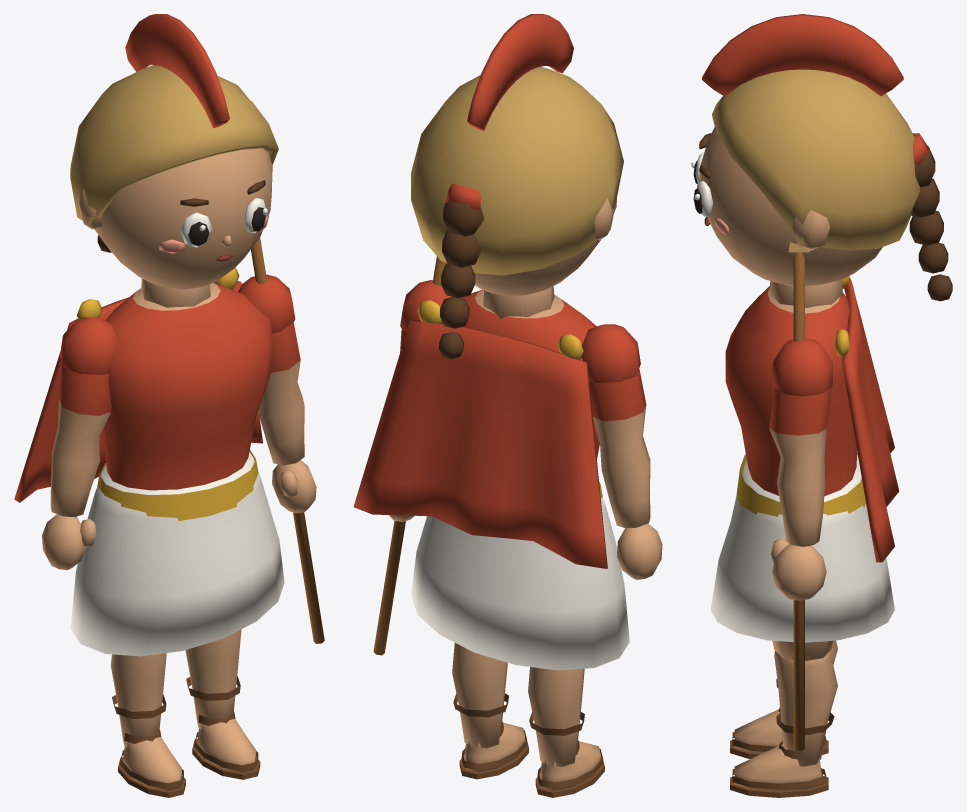
Rendered from spartanerin.glb.
The picture shows the model from 3 angles, left to right: view 1: azimuth 30°, elevation 25°; view 2: azimuth 150°, elevation 25°; view 3: azimuth 270°, elevation 25°; orthographic projection. The views are drawn at different scales.
Parts seen in each view (by area): view 1: rumpf, huefte, kopfschmuck, kopf, armL, armR, knieL, knieR, umhang, itemR, augeL, augeR; view 2: umhang, kopfschmuck, huefte, armL, knieL, knieR, haare, kopf, rumpf, itemR, armR; view 3: kopfschmuck, huefte, rumpf, armR, kopf, knieR, umhang, haare, itemR, knieL, beinR, augeR.
Boxes of the visible parts, bbox=[...] form: rumpf: bbox=[97, 283, 274, 521]; huefte: bbox=[70, 451, 284, 656]; kopfschmuck: bbox=[70, 14, 278, 224]; kopf: bbox=[77, 148, 272, 307]; armL: bbox=[42, 317, 117, 569]; armR: bbox=[238, 274, 316, 513]; knieL: bbox=[110, 653, 185, 797]; knieR: bbox=[185, 629, 260, 779]; umhang: bbox=[14, 267, 262, 502]; itemR: bbox=[251, 237, 324, 643]; augeL: bbox=[180, 212, 212, 247]; augeR: bbox=[244, 198, 267, 233]; umhang: bbox=[353, 300, 607, 568]; kopfschmuck: bbox=[411, 14, 623, 275]; huefte: bbox=[411, 497, 629, 670]; armL: bbox=[581, 324, 662, 579]; knieL: bbox=[528, 667, 604, 797]; knieR: bbox=[452, 643, 528, 779]; haare: bbox=[439, 183, 484, 358]; kopf: bbox=[474, 198, 616, 318]; rumpf: bbox=[441, 289, 602, 498]; itemR: bbox=[373, 256, 446, 655]; armR: bbox=[388, 280, 451, 521]; kopfschmuck: bbox=[702, 14, 920, 250]; huefte: bbox=[710, 454, 894, 642]; rumpf: bbox=[725, 286, 865, 516]; armR: bbox=[769, 338, 832, 600]; kopf: bbox=[700, 127, 882, 307]; knieR: bbox=[730, 650, 837, 797]; umhang: bbox=[835, 276, 899, 562]; haare: bbox=[909, 133, 952, 301]; itemR: bbox=[788, 242, 809, 750]; knieL: bbox=[730, 640, 837, 758]; beinR: bbox=[772, 640, 832, 661]; augeR: bbox=[693, 181, 712, 216].
Bounding box in the file's own units: 0.9714 × 2.48 × 0.7797.
